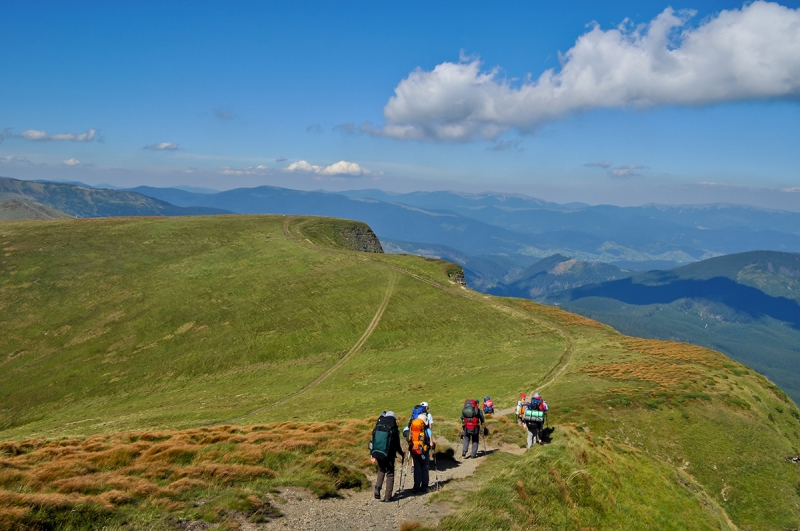people: (370, 411, 405, 501), (407, 404, 436, 494), (520, 393, 547, 452), (460, 397, 484, 459), (482, 396, 495, 414)
